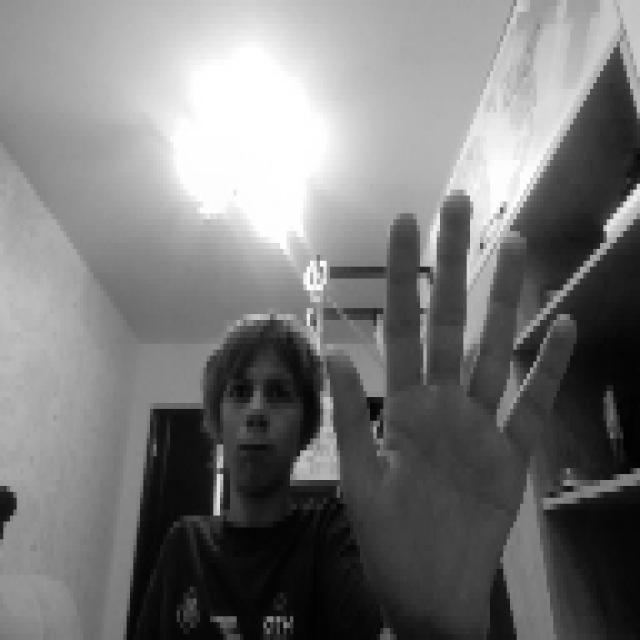hand: (327, 184, 573, 634)
